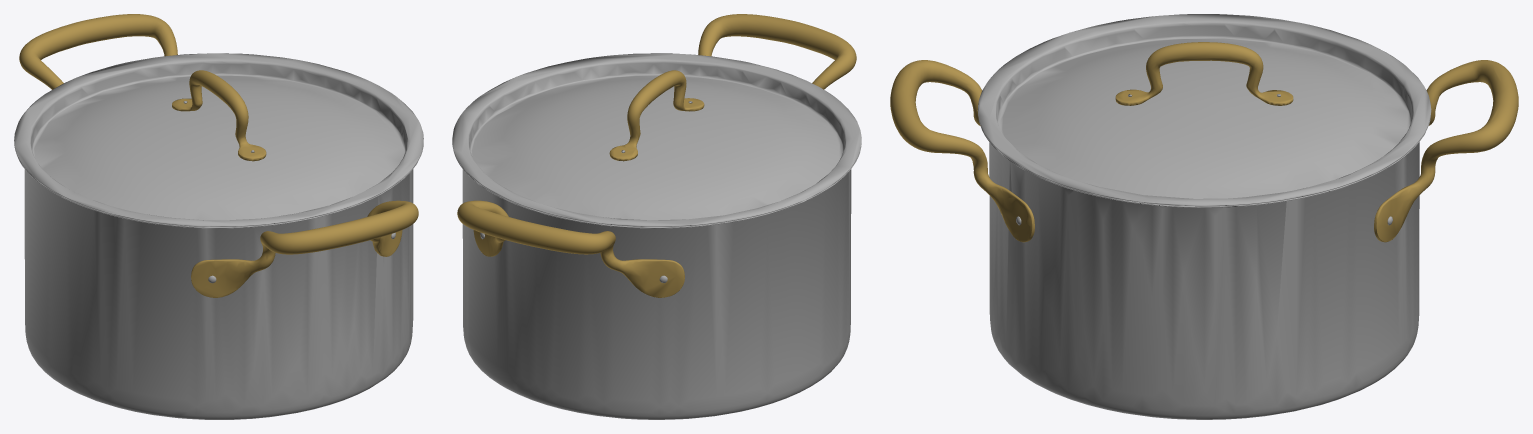
3 renders of one model, left to right at view 1: azimuth 30°, elevation 25°; view 2: azimuth 150°, elevation 25°; view 3: azimuth 270°, elevation 25°, orthographic. The views are drawn at different scales.
Parts seen in each view (by area): view 1: Cube.003; view 2: Cube.003; view 3: Cube.003.
Part boxes in pixels (x1,y1,x2,y2): Cube.003: (14, 14, 423, 419); Cube.003: (452, 14, 861, 419); Cube.003: (890, 14, 1518, 419).
Bounding box in the file's own units: 4.89 × 3.46 × 6.77.
